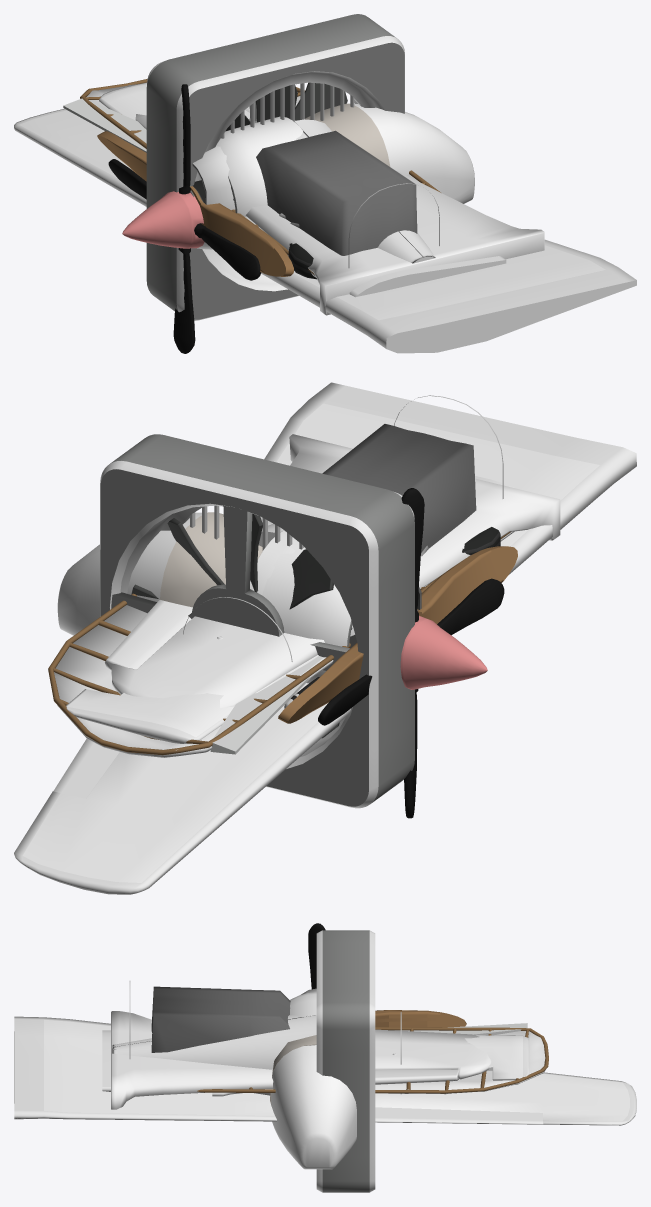
File: Parts_Mirrored_3.glb
3 renders of one model, top to bottom at view 1: azimuth 30°, elevation 25°; view 2: azimuth 150°, elevation 25°; view 3: azimuth 270°, elevation 25°, orthographic. The views are drawn at different scales.
Parts seen in each view (by area): view 1: TempratureFan__0_M, SmallPlaneCockpit__1_M, StraightWing__0_M, Wing__0_M, StraightWing__1_M, SmallPropEngine__4_M, WoodEngine__2_M, WoodEngine__1_M, TurboProp__2_M, SmallRecreationalWing__0_M, SmallPropEngine__0_M, TempratureFan__1_M (+10 smaller); view 2: TempratureFan__0_M, StraightWing__1_M, Wing__0_M, StraightWing__0_M, SmallPlaneCockpit__1_M, WoodWing__0_M, WoodEngine__2_M, WoodEngine__1_M, SmallPropEngine__4_M, SmallRecreationalWing__1_M, TurboProp__2_M, SmallPropEngine__0_M (+9 smaller); view 3: StraightWing__1_M, TempratureFan__0_M, Wing__0_M, SmallPropEngine__4_M, SmallPlaneCockpit__1_M, StraightWing__0_M, Tail__0_M, WoodWing__0_M, StraightWing__2_M, SmallRecreationalWing__1_M, WoodEngine__2_M, Wing__1_M (+5 smaller).
Part boxes in pixels (box(x1,y1,x2,y2)): TempratureFan__0_M: box(146, 14, 404, 320); SmallPlaneCockpit__1_M: box(256, 130, 417, 255); StraightWing__0_M: box(14, 109, 636, 353); Wing__0_M: box(135, 110, 544, 315); StraightWing__1_M: box(19, 110, 605, 320); SmallPropEngine__4_M: box(354, 104, 474, 203); WoodEngine__2_M: box(97, 131, 293, 276); WoodEngine__1_M: box(216, 116, 303, 217); TurboProp__2_M: box(122, 191, 204, 248); SmallRecreationalWing__0_M: box(99, 82, 506, 297); SmallPropEngine__0_M: box(305, 103, 390, 166); TempratureFan__1_M: box(225, 82, 347, 131); TempratureFan__0_M: box(100, 434, 414, 808); StraightWing__1_M: box(22, 403, 599, 882); Wing__0_M: box(111, 434, 560, 707); StraightWing__0_M: box(14, 382, 636, 894); SmallPlaneCockpit__1_M: box(322, 424, 476, 552); WoodWing__0_M: box(48, 531, 514, 757); WoodEngine__2_M: box(278, 546, 517, 723); WoodEngine__1_M: box(250, 530, 351, 683); SmallPropEngine__4_M: box(57, 512, 201, 635); SmallRecreationalWing__1_M: box(67, 674, 285, 737); TurboProp__2_M: box(400, 615, 487, 689); SmallPropEngine__0_M: box(160, 512, 262, 607); StraightWing__1_M: box(44, 1019, 629, 1123); TempratureFan__0_M: box(316, 930, 375, 1192); Wing__0_M: box(111, 1011, 491, 1109); SmallPropEngine__4_M: box(271, 1045, 356, 1169); SmallPlaneCockpit__1_M: box(151, 986, 290, 1052); StraightWing__0_M: box(14, 1016, 636, 1125); Tail__0_M: box(112, 1014, 316, 1095); WoodWing__0_M: box(197, 1027, 548, 1094); StraightWing__2_M: box(375, 1107, 543, 1124); SmallRecreationalWing__1_M: box(465, 1035, 522, 1077); WoodEngine__2_M: box(375, 1010, 466, 1027); Wing__1_M: box(375, 1069, 459, 1084).
Bounding box in the file's own units: 3.03 × 2.26 × 6.05.
Materials: 54 (30 with a texture image).
